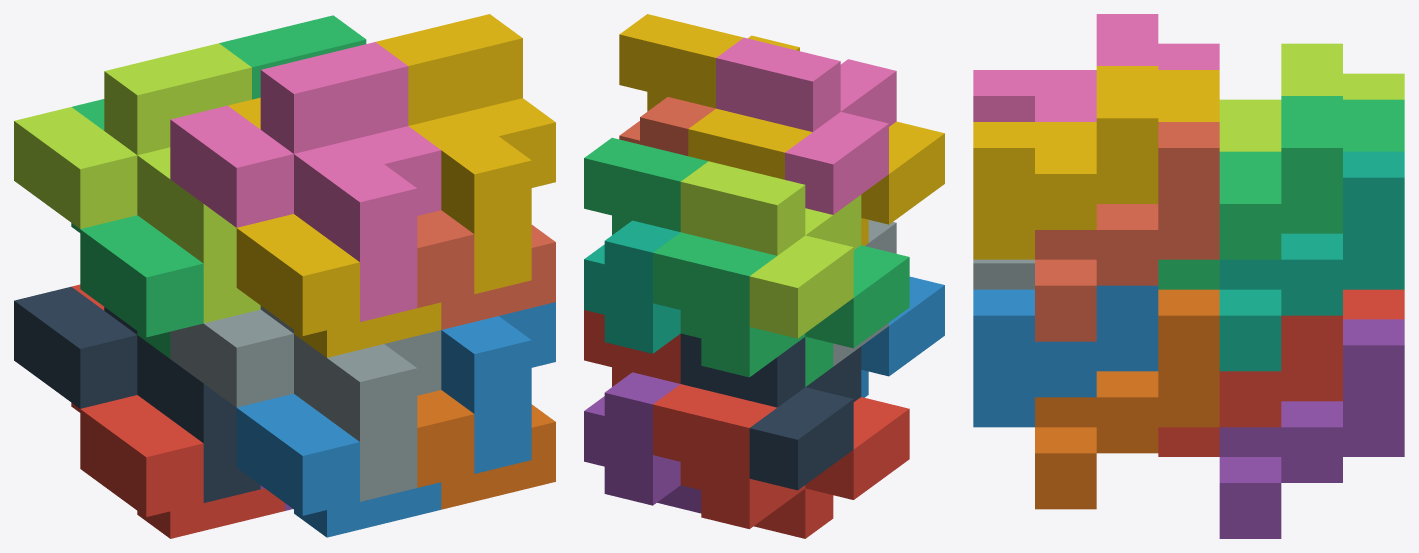
The model's file is tiling.obj.
The picture shows the model from 3 angles, left to right: view 1: azimuth 30°, elevation 25°; view 2: azimuth 150°, elevation 25°; view 3: azimuth 270°, elevation 25°; orthographic projection. The views are drawn at different scales.
Visible parts, largest first — view 1: copy_2_domain_4, copy_2_domain_3, copy_2_domain_8, copy_2_domain_2, copy_2_domain_1, copy_1_domain_4, copy_1_domain_2, copy_1_domain_1, copy_2_domain_6, copy_1_domain_3, copy_1_domain_6, copy_1_domain_8 (+1 smaller); view 2: copy_2_domain_4, copy_2_domain_3, copy_1_domain_1, copy_1_domain_3, copy_2_domain_1, copy_2_domain_7, copy_2_domain_8, copy_1_domain_5, copy_1_domain_7, copy_1_domain_4, copy_2_domain_5, copy_1_domain_2 (+2 smaller); view 3: copy_2_domain_8, copy_1_domain_7, copy_1_domain_6, copy_1_domain_5, copy_1_domain_8, copy_2_domain_7, copy_2_domain_6, copy_2_domain_5, copy_2_domain_4, copy_2_domain_3, copy_2_domain_2, copy_1_domain_3 (+1 smaller).
Boxes of the visible parts, bbox=[...] form: copy_2_domain_4: bbox=[170, 42, 441, 321]; copy_2_domain_3: bbox=[14, 43, 260, 323]; copy_2_domain_8: bbox=[376, 14, 555, 294]; copy_2_domain_2: bbox=[170, 306, 441, 501]; copy_2_domain_1: bbox=[14, 286, 260, 502]; copy_1_domain_4: bbox=[228, 97, 441, 357]; copy_1_domain_2: bbox=[236, 393, 441, 537]; copy_1_domain_1: bbox=[71, 284, 284, 538]; copy_2_domain_6: bbox=[441, 302, 555, 473]; copy_1_domain_3: bbox=[71, 99, 203, 358]; copy_1_domain_6: bbox=[417, 390, 555, 509]; copy_1_domain_8: bbox=[417, 210, 555, 329]; copy_2_domain_4: bbox=[716, 37, 896, 214]; copy_2_domain_3: bbox=[680, 161, 861, 338]; copy_1_domain_1: bbox=[680, 396, 909, 538]; copy_1_domain_3: bbox=[680, 244, 909, 386]; copy_2_domain_1: bbox=[680, 333, 861, 490]; copy_2_domain_7: bbox=[584, 137, 728, 314]; copy_2_domain_8: bbox=[619, 14, 799, 167]; copy_1_domain_5: bbox=[584, 372, 701, 513]; copy_1_domain_7: bbox=[584, 220, 680, 353]; copy_1_domain_4: bbox=[736, 120, 944, 245]; copy_2_domain_5: bbox=[584, 310, 728, 466]; copy_1_domain_2: bbox=[861, 276, 944, 397]; copy_2_domain_8: bbox=[973, 66, 1219, 259]; copy_1_domain_7: bbox=[1219, 151, 1404, 371]; copy_1_domain_6: bbox=[1035, 289, 1219, 509]; copy_1_domain_5: bbox=[1219, 319, 1404, 538]; copy_1_domain_8: bbox=[1035, 122, 1219, 341]; copy_2_domain_7: bbox=[1158, 96, 1404, 289]; copy_2_domain_6: bbox=[973, 285, 1158, 427]; copy_2_domain_5: bbox=[1158, 293, 1404, 456]; copy_2_domain_4: bbox=[973, 14, 1219, 121]; copy_2_domain_3: bbox=[1219, 43, 1404, 151]; copy_2_domain_2: bbox=[973, 259, 1034, 289]; copy_1_domain_3: bbox=[1343, 99, 1404, 125].
Bounding box in the file's own units: 6 × 8 × 7.
